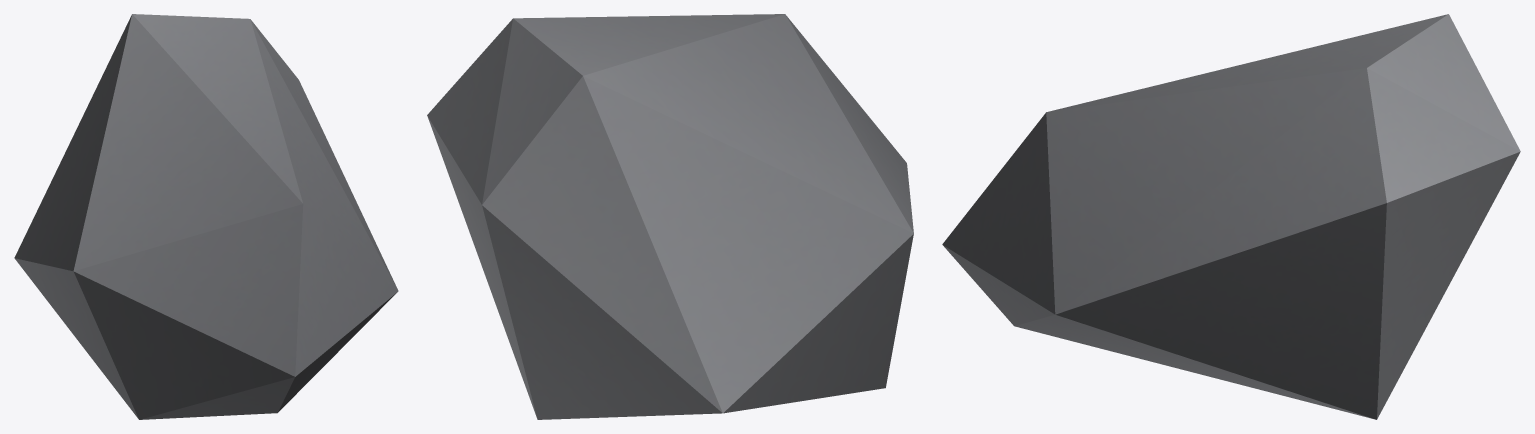
File: Rock_Sm_2.fbx
The picture shows the model from 3 angles, left to right: view 1: azimuth 30°, elevation 25°; view 2: azimuth 150°, elevation 25°; view 3: azimuth 270°, elevation 25°; orthographic projection. The views are drawn at different scales.
Visible parts, largest first — view 1: Group24218; view 2: Group24218; view 3: Group24218.
Part boxes in pixels (<box>): Group24218: <box>14,14,398,419</box>; Group24218: <box>427,14,913,419</box>; Group24218: <box>942,14,1520,419</box>.
Bounding box in the file's own units: 84.06 × 80.15 × 114.
